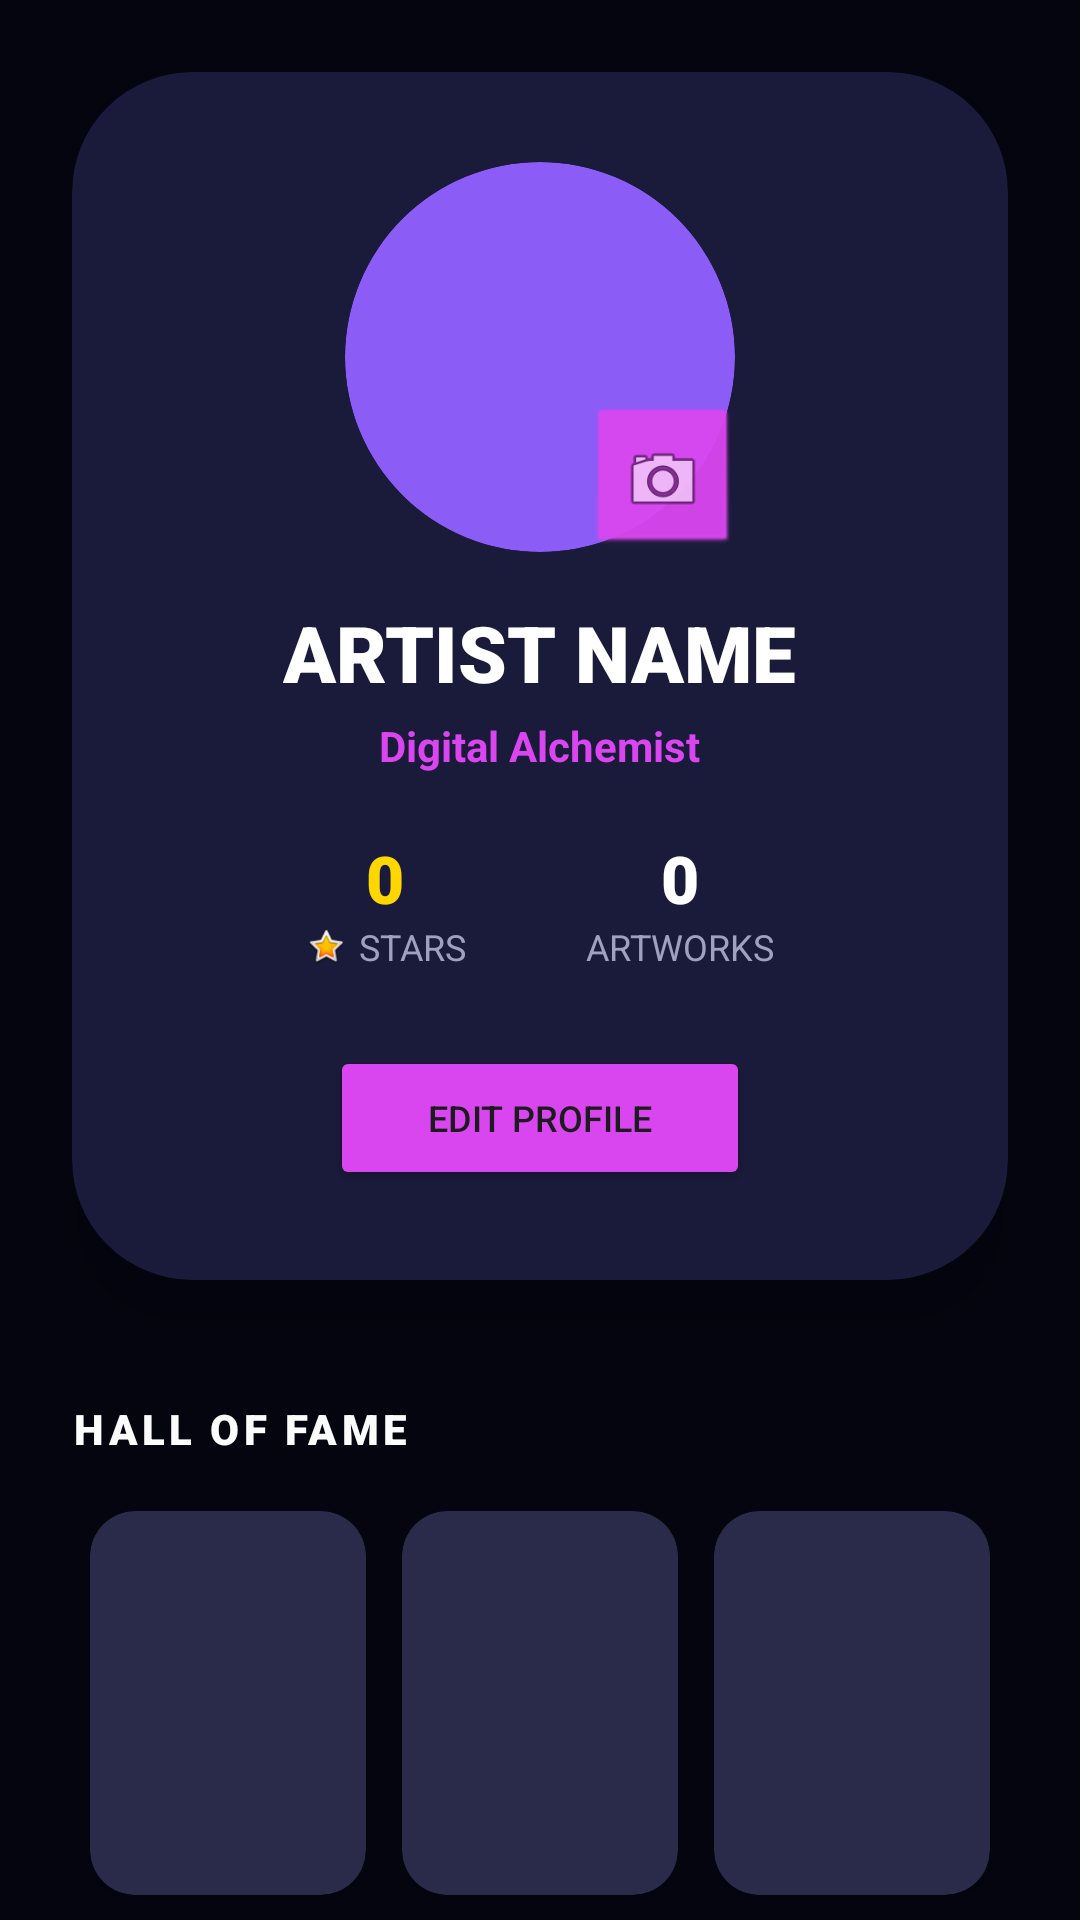

Point at icon controls on the screen. Image size 1080×1920, points as [x,y].
Edit Avatar: [663,480]
